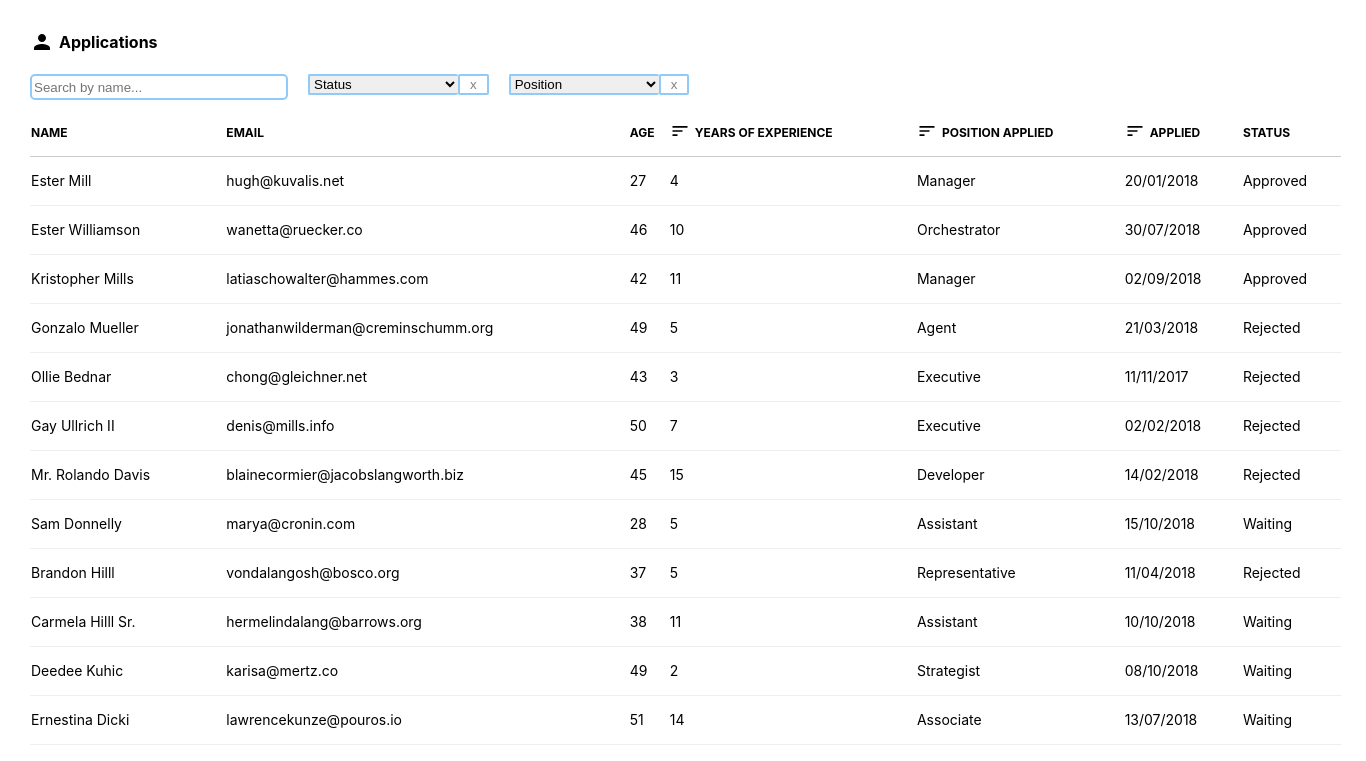
Scenario: Applications Table › UI Components › Filters › should filter data by Position
Select "Designer" in the 2nd dropdown at coordinates (584, 85), box top-left (509, 74), bottom-right (659, 95)
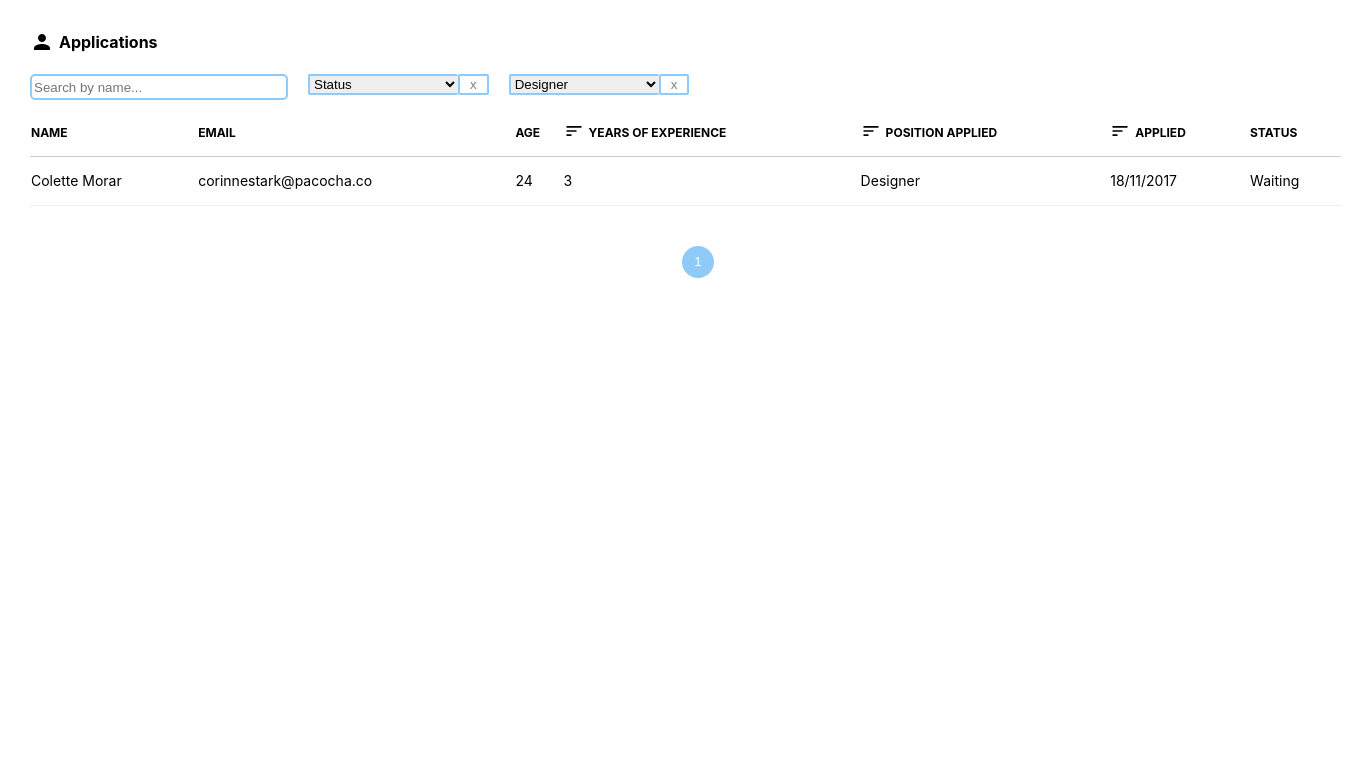
Result: the text "Colette Morar" is shown at top-left (30, 156), bottom-right (197, 205)
